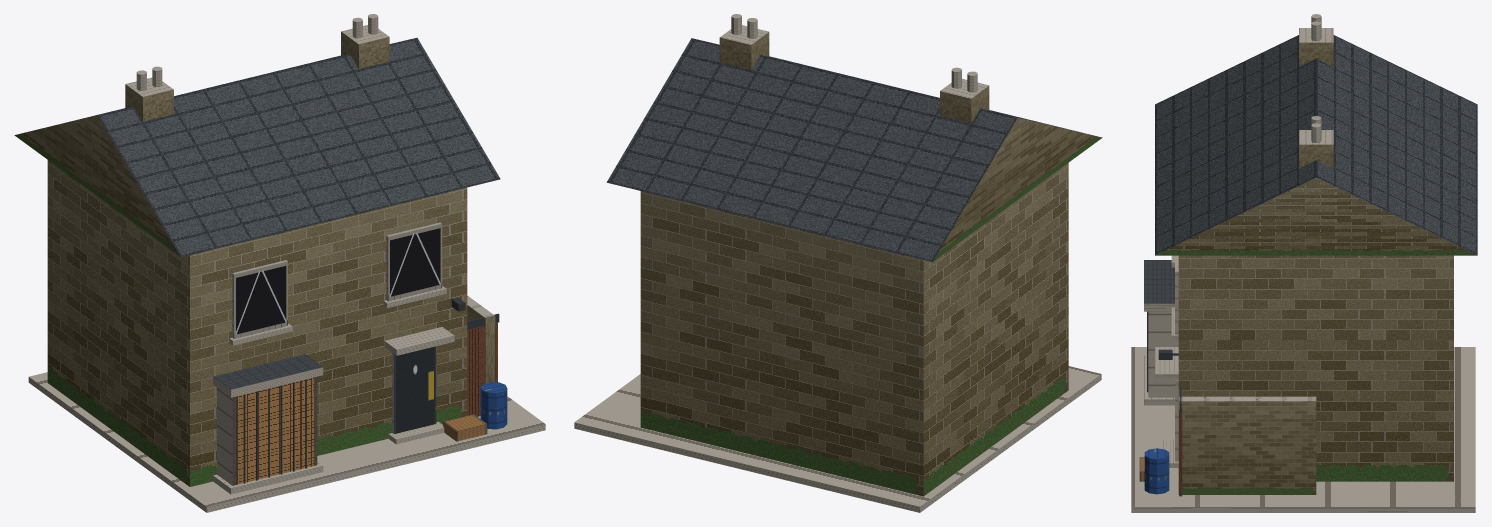
The model's file is building_croydon_traphouse_02.glb.
The picture shows the model from 3 angles, left to right: view 1: azimuth 30°, elevation 25°; view 2: azimuth 150°, elevation 25°; view 3: azimuth 270°, elevation 25°; orthographic projection. The views are drawn at different scales.
Parts seen in each view (by area): view 1: Building_Croydon_Traphouse_02; view 2: Building_Croydon_Traphouse_02; view 3: Building_Croydon_Traphouse_02.
Boxes of the visible parts, box(x1,y1,x2,y2) form: Building_Croydon_Traphouse_02: box(14, 14, 545, 512); Building_Croydon_Traphouse_02: box(574, 14, 1102, 512); Building_Croydon_Traphouse_02: box(1131, 14, 1477, 512).
Bounding box in the file's own units: 9.15 × 9 × 8.05.
1 material, 1 textured.
